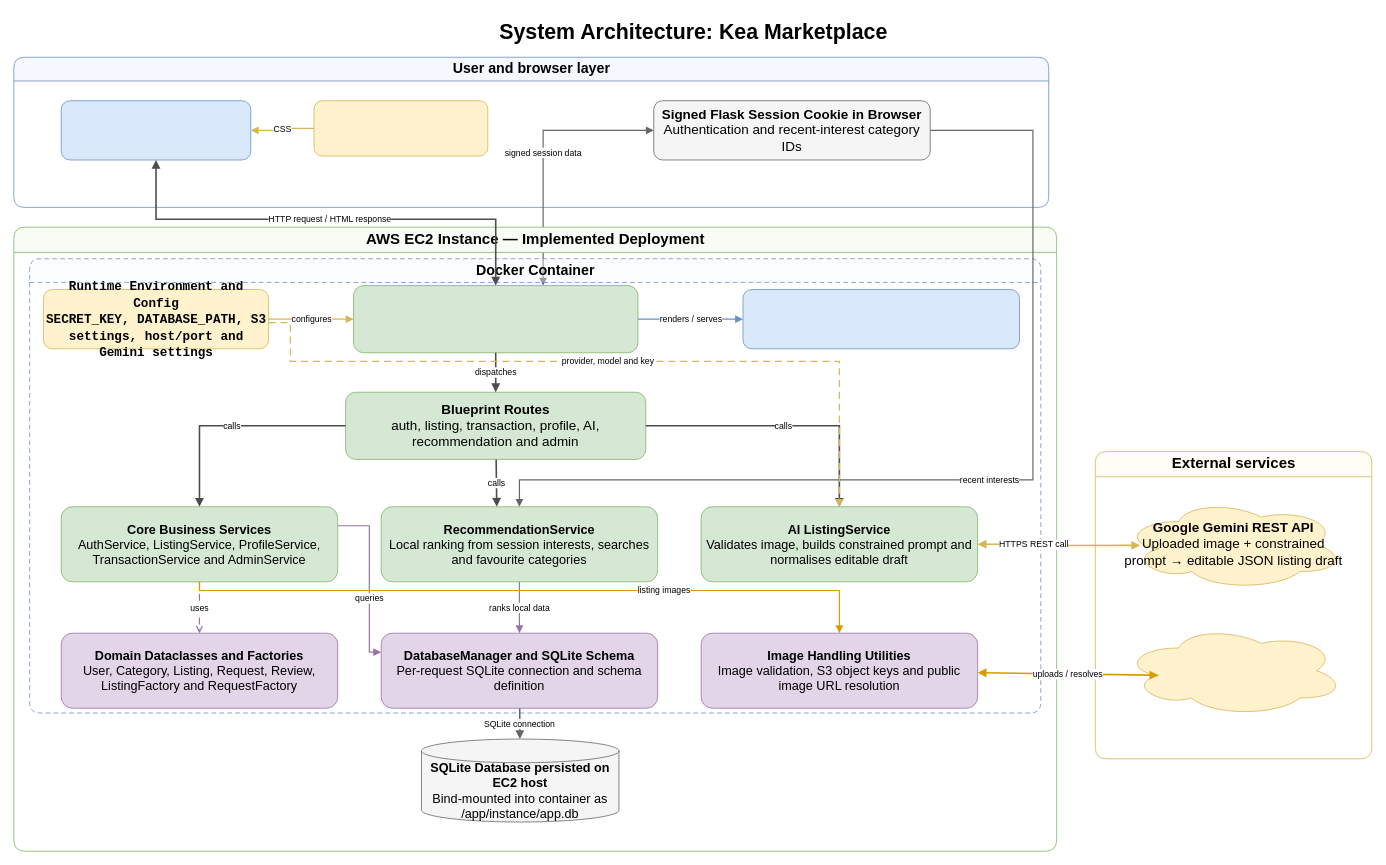
The diagram is 1386 pixels wide and 865 high, and some of its shapes have lost their labels. Here are the shapes that lost their labels. From the top down, the centre of each, then its label:
At [155,130]: "User Browser Chrome / Firefox / Edge".
At [400,128]: "Bootstrap 5 CDN External CSS asset".
At [495,319]: "Flask Application create_app(), application process and blueprint registration".
At [880,319]: "Jinja Templates and Static Assets HTML, main.css, main.js, logo and placeholders".
At [1233,670]: "Amazon S3 Bucket Listing images stored as S3 objects".
